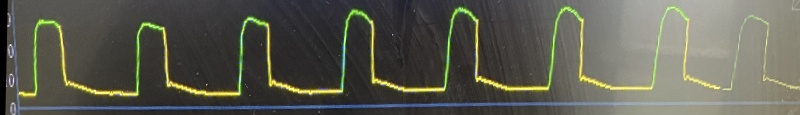normal_pressure: (28, 0, 730, 110)
